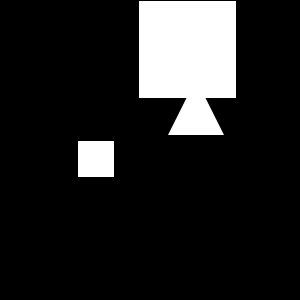circle: (139, 1, 236, 98), (78, 141, 114, 177)
triangle: (168, 79, 224, 135)
